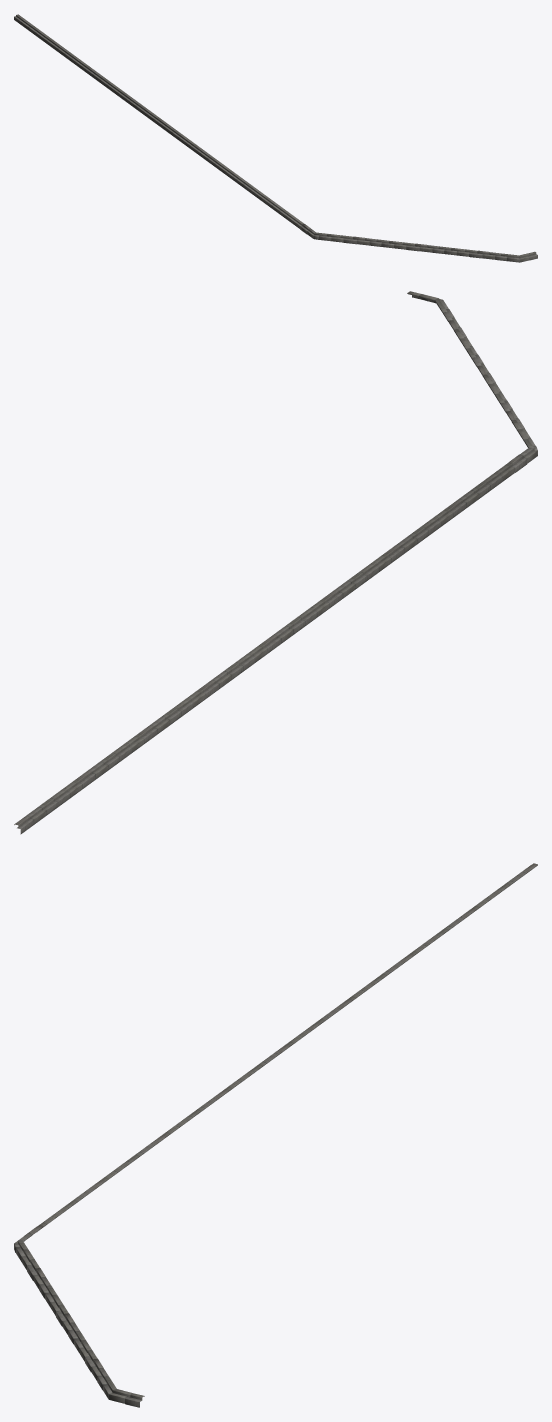
Rendered from SM_ENV_LKNVLD_Ground_Hill_Left_HillSideTrim_02.FBX.
The picture shows the model from 3 angles, top to bottom: view 1: azimuth 30°, elevation 25°; view 2: azimuth 150°, elevation 25°; view 3: azimuth 330°, elevation 25°; orthographic projection. The views are drawn at different scales.
Visible parts, largest first — view 1: SM_ENV_LKNVLD_Ground_Hill_Left_HillSideTrim_02; view 2: SM_ENV_LKNVLD_Ground_Hill_Left_HillSideTrim_02; view 3: SM_ENV_LKNVLD_Ground_Hill_Left_HillSideTrim_02.
Part boxes in pixels (bbox=[...]): SM_ENV_LKNVLD_Ground_Hill_Left_HillSideTrim_02: bbox=[14, 14, 537, 262]; SM_ENV_LKNVLD_Ground_Hill_Left_HillSideTrim_02: bbox=[14, 291, 537, 834]; SM_ENV_LKNVLD_Ground_Hill_Left_HillSideTrim_02: bbox=[14, 863, 537, 1407].
Size of the model in its own units: 2711 by 86.69 by 11841.
